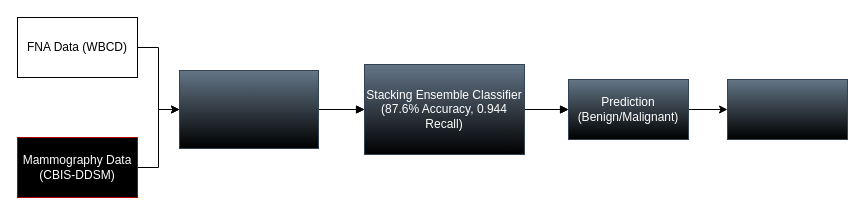
Image size: 865x215. Some labels were removed from this diagram. The shapes that lost their labels are listed below. From the top down, each one's centre as x and y in pixels, then its label:
the point at 248,109: Feature Alignment (radius_mean, texture_mean, etc.)
the point at 787,109: Clinician Review and Decision
